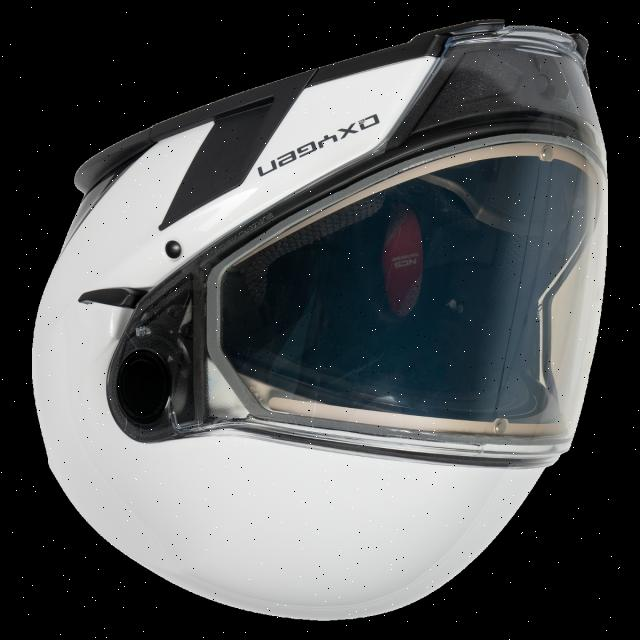Helmet: (34, 21, 606, 620)
